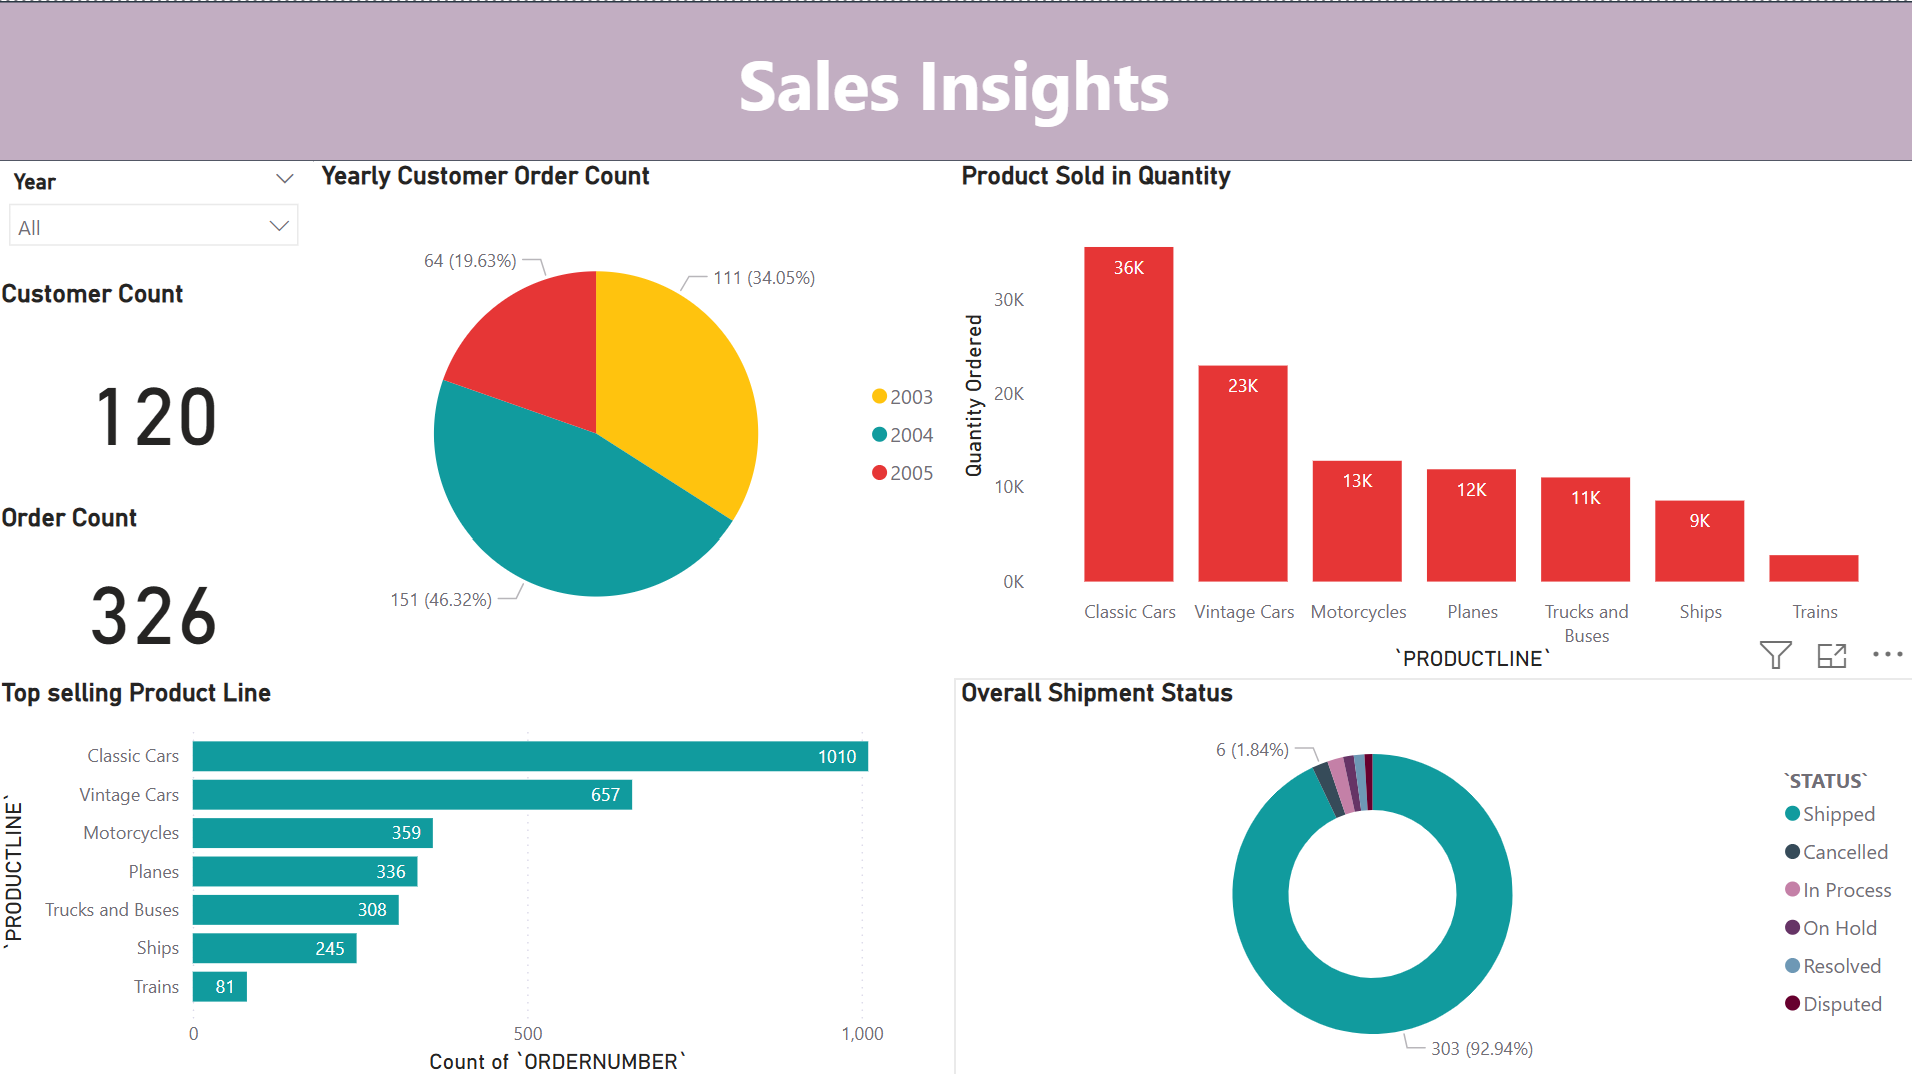

What the dashboard file says about the page in this screenshot:
{"tool":"powerbi","page":{"name":"Sales Insights Page","canvas":[1280,720],"ordinal":1},"visuals":[{"type":"shape","box":[0,0,1280,107.2],"z":0},{"type":"slicer","title":"Year","fields":{"Values":["`PAYMENTS`.`PAYMENTDATE`.Variation.Date Hierarchy.Year"]},"box":[0,107.2,212.8,78.1],"z":1000},{"type":"card","title":"Customer Count ","fields":{"Values":["Important Measures Table.Customer_Count"]},"box":[0,184.9,212.9,150.4],"z":2000},{"type":"card","title":"Order Count ","fields":{"Values":["Count(`ORDERS`.`ORDERNUMBER`)"]},"box":[0,335.3,212.9,116],"z":3000},{"type":"pieChart","title":"Yearly Customer Order Count","fields":{"Category":["`ORDERS`.`ORDERDATE`.Variation.Date Hierarchy.Year"],"Y":["CountNonNull(`ORDERS`.`ORDERNUMBER`)"]},"box":[212.9,107.1,427.1,344.2],"z":4000},{"type":"columnChart","title":"Product Sold in Quantity","fields":{"Y":["Sum(`ORDERDETAILS`.`QUANTITYORDERED`)"],"Category":["`PRODUCTLINES`.`PRODUCTLINE`"]},"box":[640,107.1,640,344.2],"z":5000},{"type":"barChart","title":"Top selling Product Line","fields":{"Category":["`PRODUCTLINES`.`PRODUCTLINE`"],"Y":["CountNonNull(`ORDERDETAILS`.`ORDERNUMBER`)"]},"box":[0,451.3,640,269],"z":6000},{"type":"donutChart","title":"Overall Shipment Status","fields":{"Category":["`ORDERS`.`STATUS`"],"Y":["CountNonNull(`ORDERS`.`ORDERNUMBER`)"]},"box":[640,451,640,269],"z":7000}]}

Visuals, with their boxes in screenshot pixels (x1, y1, x2, y2), scaled from the page's 1280x720 canvas onto the 1912x1074 screenshot:
shape: (left=0, top=0, right=1911, bottom=160)
"Year" slicer: (left=0, top=160, right=318, bottom=276)
"Customer Count " card: (left=0, top=276, right=318, bottom=500)
"Order Count " card: (left=0, top=500, right=318, bottom=673)
"Yearly Customer Order Count" pieChart: (left=318, top=160, right=956, bottom=673)
"Product Sold in Quantity" columnChart: (left=956, top=160, right=1911, bottom=673)
"Top selling Product Line" barChart: (left=0, top=673, right=956, bottom=1073)
"Overall Shipment Status" donutChart: (left=956, top=673, right=1911, bottom=1073)
